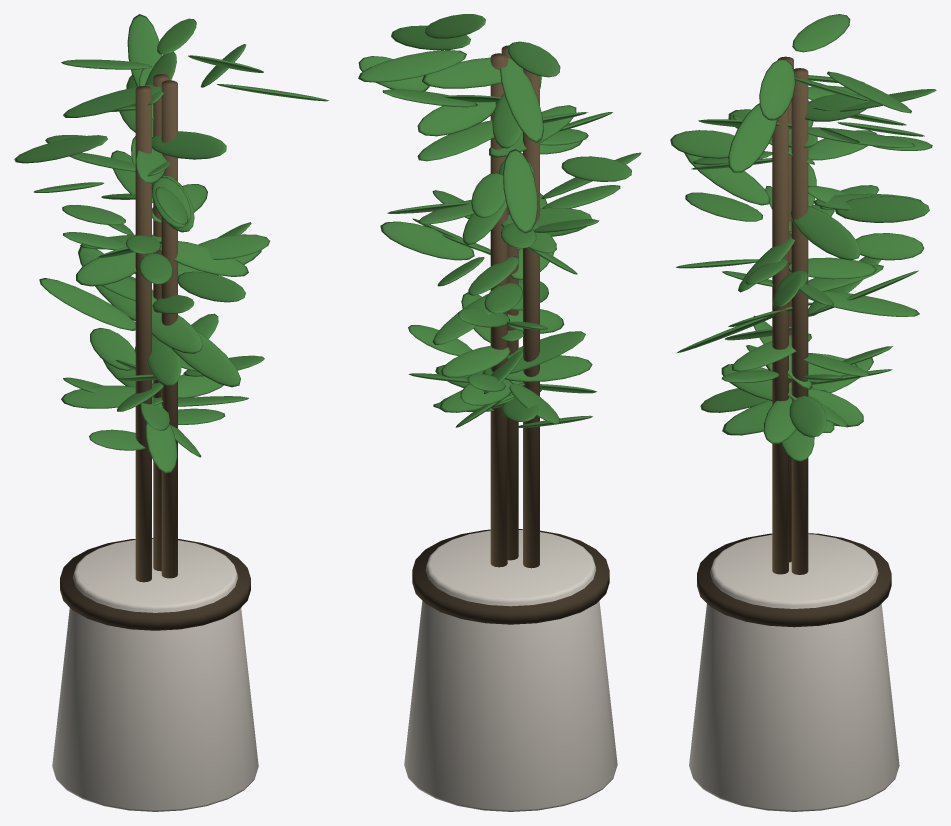
File: pflanze.glb
3 views of the same model, side by side, from view 1: azimuth 30°, elevation 25°; view 2: azimuth 150°, elevation 25°; view 3: azimuth 270°, elevation 25° (orthographic). The views are drawn at different scales.
Visible parts, largest first — view 1: Topf, Stamm0, Erde, Stamm2, Stamm1, Blatt.020, Blatt.021, Blatt.008, Blatt.035, Blatt.017, Blatt.065, Blatt.063 (+24 smaller); view 2: Topf, Stamm0, Erde, Stamm1, Stamm2, Blatt.053, Blatt.052, Blatt.025, Blatt.069, Blatt.049, Blatt.006, Blatt.062 (+31 smaller); view 3: Topf, Stamm1, Stamm2, Erde, Blatt.010, Blatt.046, Blatt.051, Blatt.009, Blatt.033, Blatt.023, Blatt.015, Blatt.057 (+28 smaller).
Part boxes in pixels (x1,y1,x2,y2): Topf: (52,538,258,811); Stamm0: (135,86,151,582); Erde: (60,538,250,630); Stamm2: (161,80,177,578); Stamm1: (153,74,169,571); Blatt.020: (39,278,135,330); Blatt.021: (171,330,240,387); Blatt.008: (152,131,226,159); Blatt.035: (176,271,245,302); Blatt.017: (127,14,162,86); Blatt.065: (76,252,136,286); Blatt.063: (159,241,248,276); Topf: (404,530,617,811); Stamm0: (523,69,539,568); Erde: (412,529,609,624); Stamm1: (490,53,507,567); Stamm2: (501,45,518,560); Blatt.053: (503,149,537,233); Blatt.052: (500,58,543,142); Blatt.025: (358,50,466,82); Blatt.069: (380,221,474,260); Blatt.049: (417,102,496,136); Blatt.006: (422,57,522,88); Blatt.062: (417,120,493,161); Topf: (689,534,899,811); Stamm1: (791,68,808,574); Stamm2: (772,107,788,574); Erde: (697,533,891,627); Blatt.010: (790,206,860,260); Blatt.046: (834,196,929,222); Blatt.051: (728,103,777,172); Blatt.009: (759,59,795,120); Blatt.033: (684,153,770,205); Blatt.023: (855,233,924,260); Blatt.015: (670,130,734,158); Blatt.057: (792,14,850,52).
Bounding box in the file's own units: 0.4468 × 1.15 × 0.3835.
